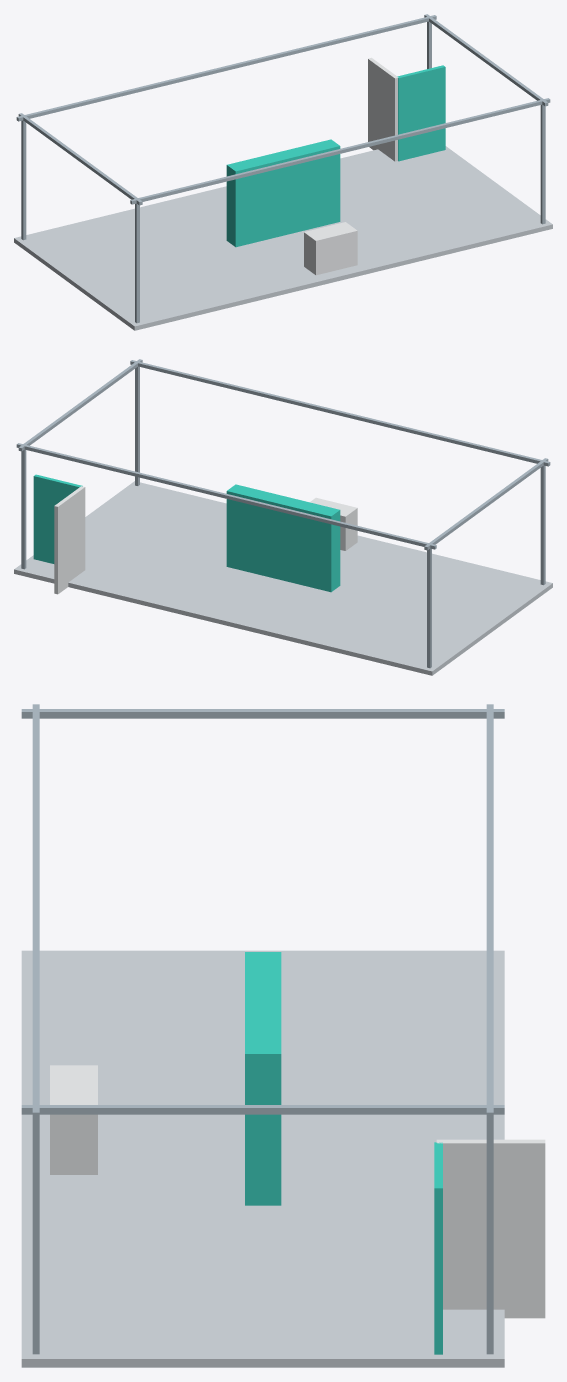
3 renders of one model, top to bottom at view 1: azimuth 30°, elevation 25°; view 2: azimuth 150°, elevation 25°; view 3: azimuth 270°, elevation 25°, orthographic. The views are drawn at different scales.
Visible parts, largest first — view 1: Exhibition Booth Concept; view 2: Exhibition Booth Concept; view 3: Exhibition Booth Concept.
Boxes of the visible parts, box(x1,y1,x2,y2) form: Exhibition Booth Concept: box(14, 14, 552, 330); Exhibition Booth Concept: box(14, 359, 552, 675); Exhibition Booth Concept: box(21, 704, 545, 1367).
Size of the model in its own units: 12 by 3.49 by 6.51.
